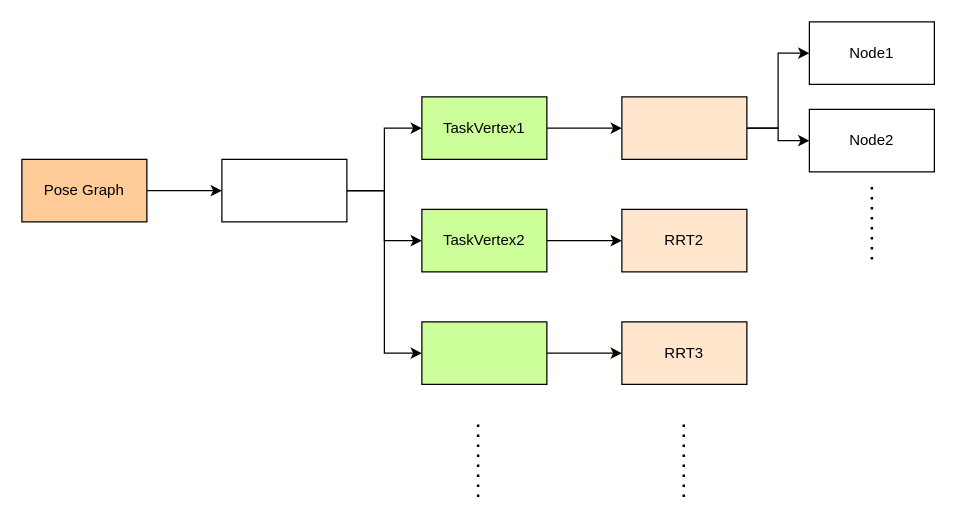
The diagram is 956 pixels wide and 521 high, and some of its shapes have lost their labels. The centre of each missing label's shape, as x and y in pixels:
"RRT1" goes at point (684, 127).
"Task Graph" goes at point (284, 190).
"TaskVertex3" goes at point (484, 352).
